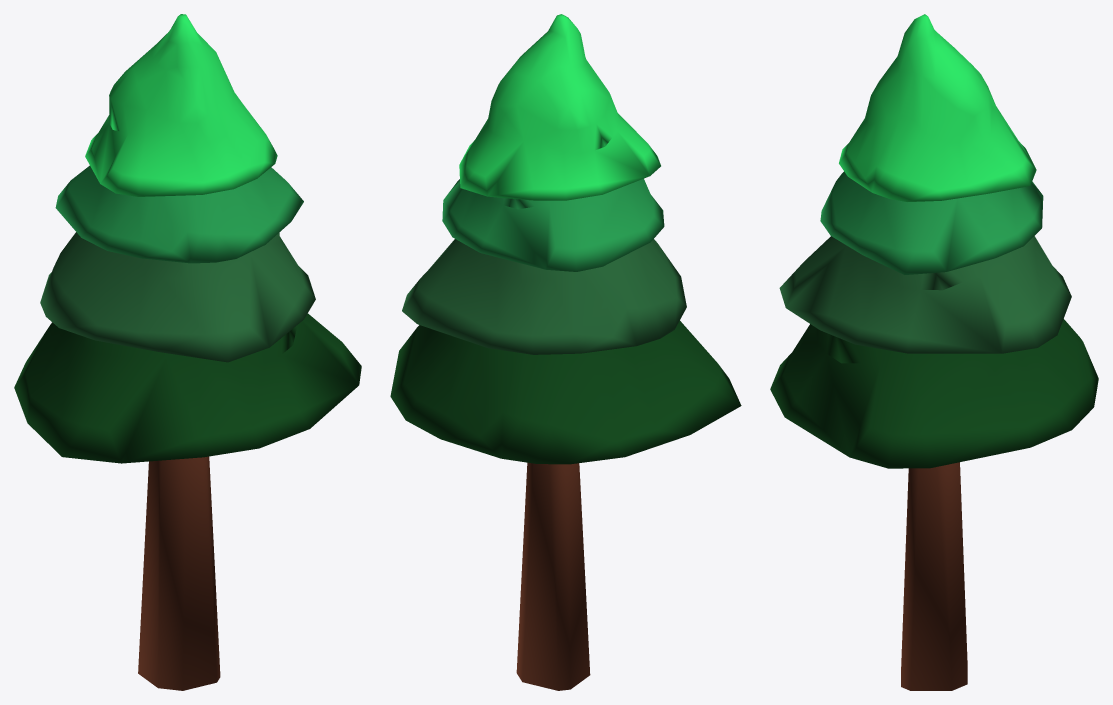
The model's file is pine_tree.fbx.
3 views of the same model, side by side, from view 1: azimuth 30°, elevation 25°; view 2: azimuth 150°, elevation 25°; view 3: azimuth 270°, elevation 25° (orthographic).
Parts seen in each view (by area): view 1: Cylinder.003; view 2: Cylinder.003; view 3: Cylinder.003.
Part boxes in pixels (left/top/right/bottom): Cylinder.003: left=14, top=14, right=361, bottom=690; Cylinder.003: left=390, top=14, right=741, bottom=690; Cylinder.003: left=770, top=14, right=1098, bottom=690.
Bounding box in the file's own units: 539 × 1091 × 493.
